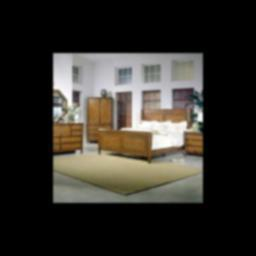Armario: (88, 97, 113, 144)
